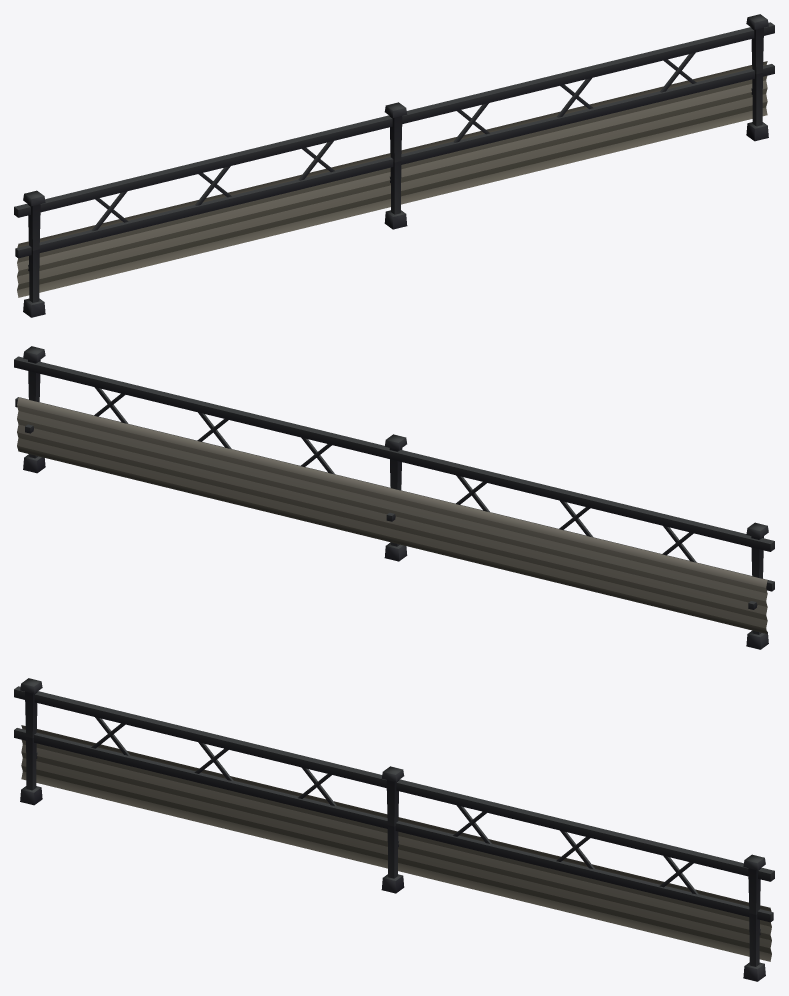
Rendered from Fence_2A.fbx.
3 views of the same model, one above another, from view 1: azimuth 30°, elevation 25°; view 2: azimuth 150°, elevation 25°; view 3: azimuth 330°, elevation 25° (orthographic).
Visible parts, largest first — view 1: Fence_2A; view 2: Fence_2A; view 3: Fence_2A.
Boxes of the visible parts, box(x1,y1,x2,y2) form: Fence_2A: box(14, 14, 774, 317); Fence_2A: box(14, 346, 774, 649); Fence_2A: box(14, 678, 774, 981).
Size of the model in its own units: 29.29 by 4.37 by 0.7248.
